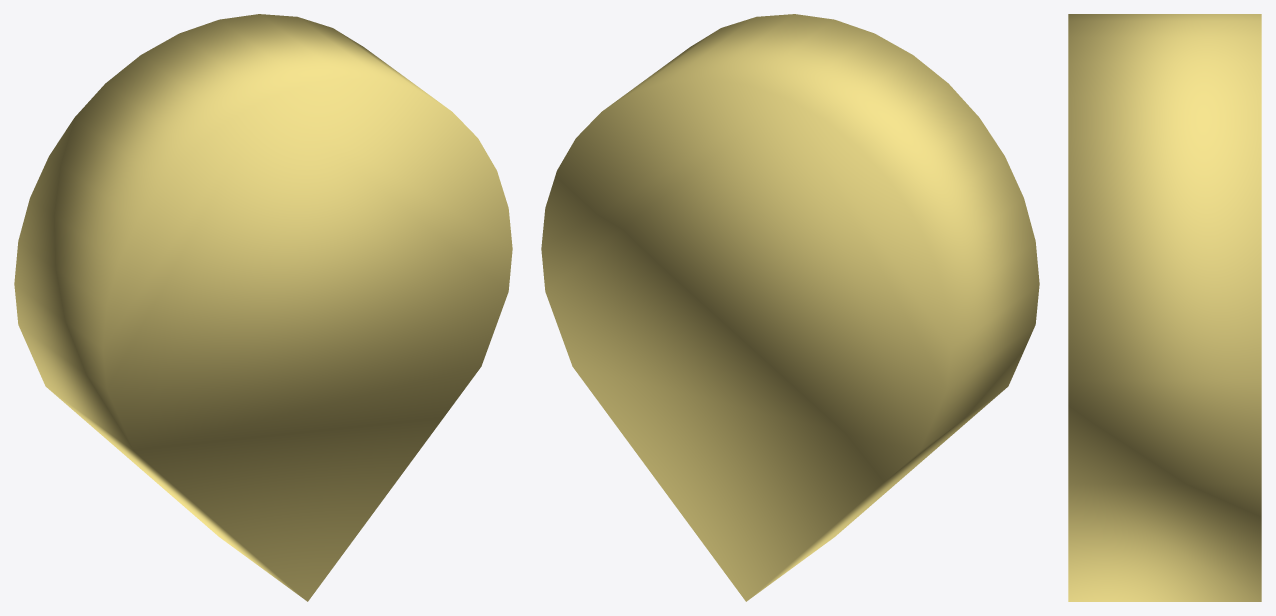
File: WaypointColor.fbx
The picture shows the model from 3 angles, left to right: view 1: azimuth 30°, elevation 25°; view 2: azimuth 150°, elevation 25°; view 3: azimuth 270°, elevation 25°; orthographic projection. The views are drawn at different scales.
Visible parts, largest first — view 1: Circle; view 2: Circle; view 3: Circle.
Boxes of the visible parts, <box> form: Circle: <box>14,14,512,601</box>; Circle: <box>541,14,1039,601</box>; Circle: <box>1068,14,1261,601</box>.
Bounding box in the file's own units: 200 × 241 × 75.
